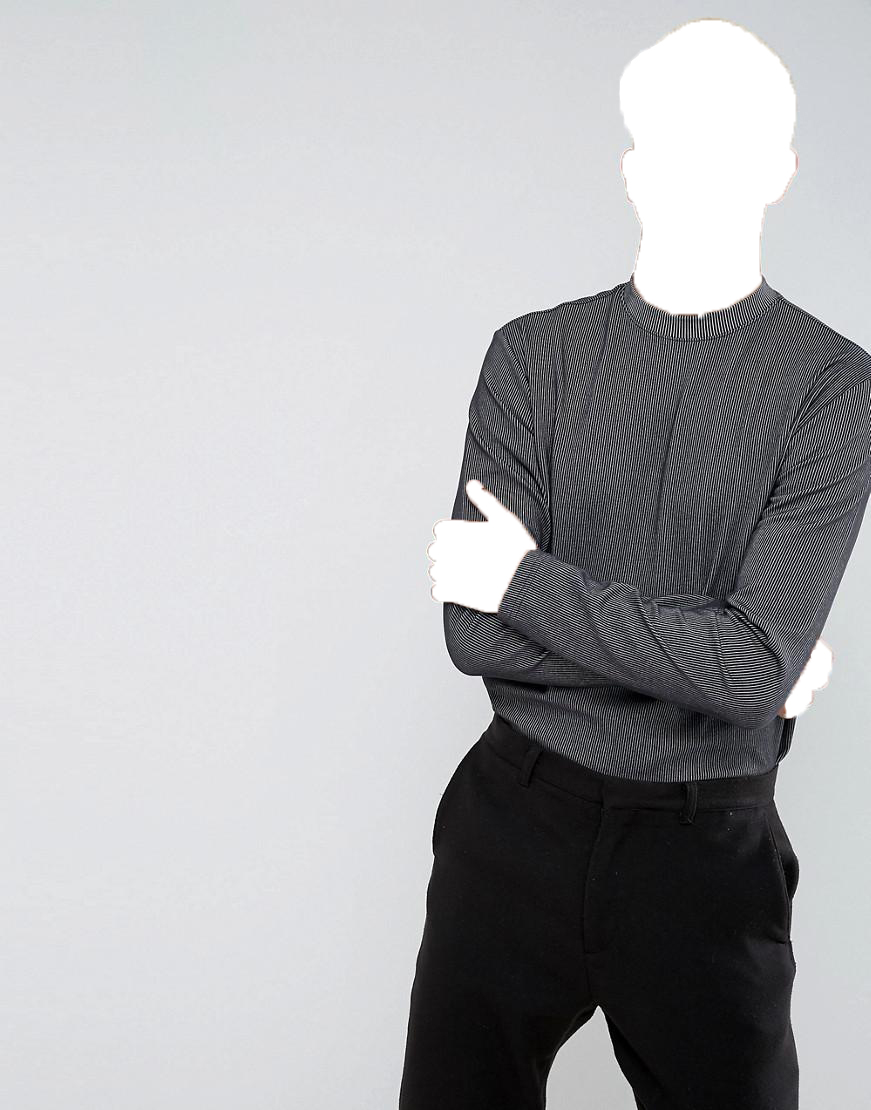teeshirt: (437, 276, 871, 802)
